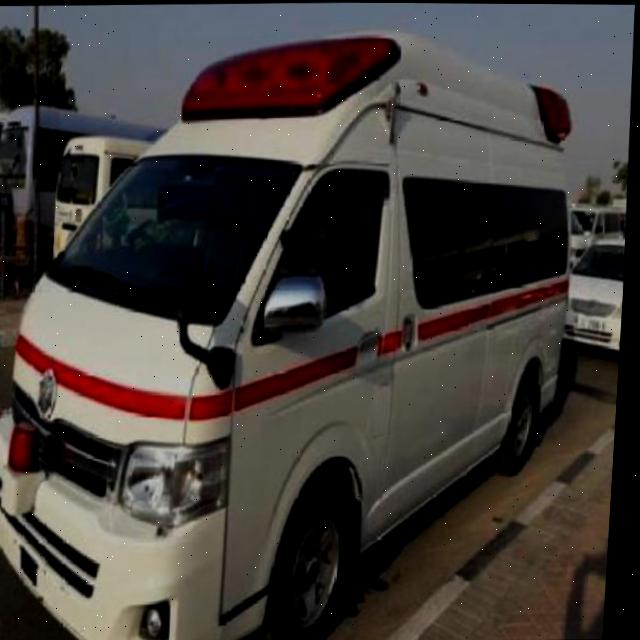emergency: (0, 23, 593, 640)
